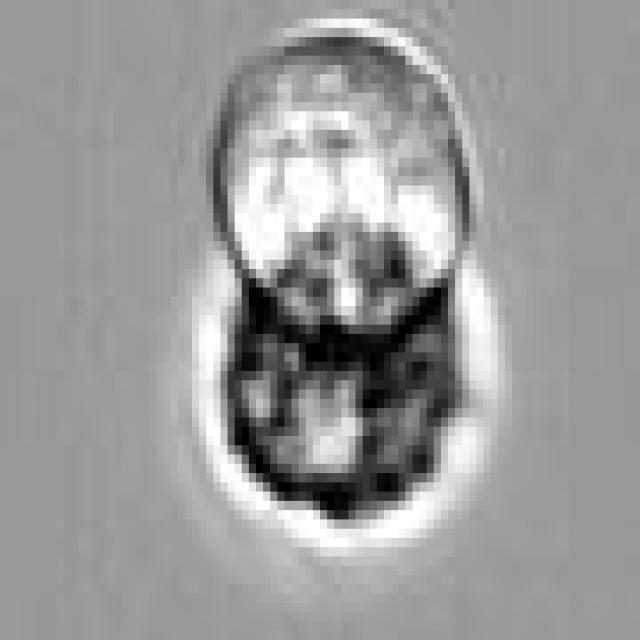Cancer Cell: (214, 18, 484, 334)
WBC: (228, 223, 470, 510)
